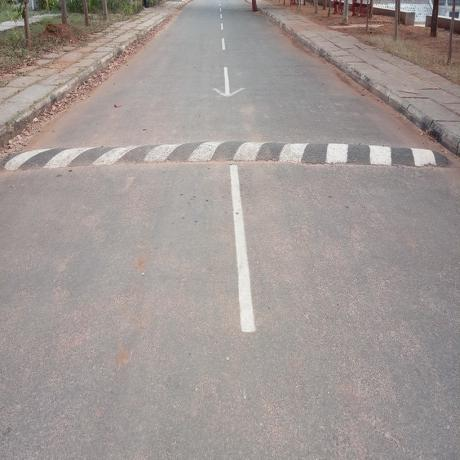Speed Bump: (5, 137, 450, 173)
